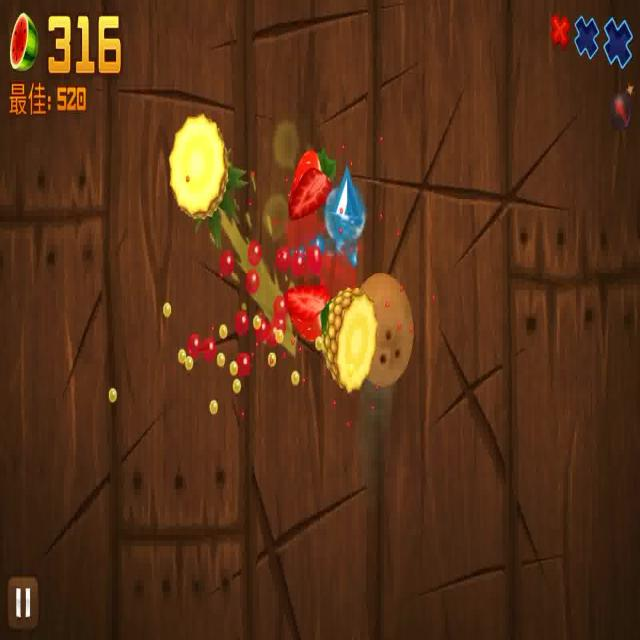fruit: (163, 99, 244, 247), (358, 260, 418, 383), (323, 281, 377, 389), (288, 140, 335, 221), (282, 277, 326, 345)
